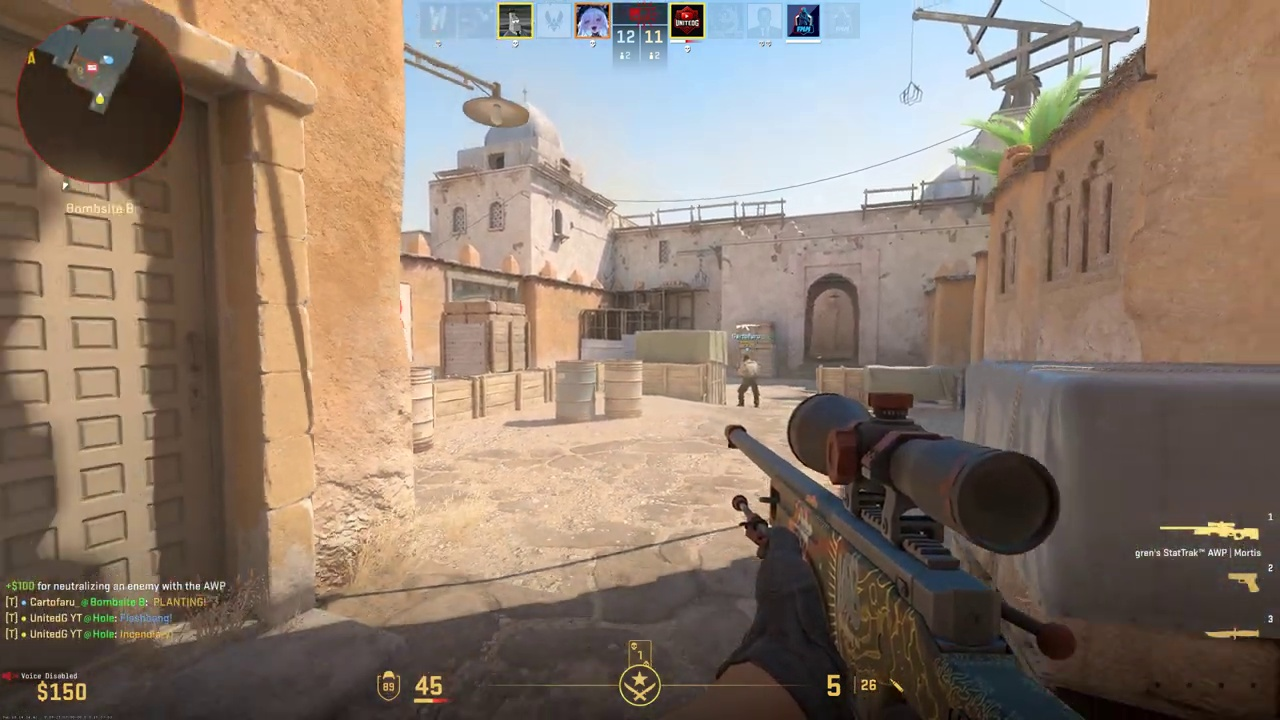Terrorist: (737, 356, 758, 407)
